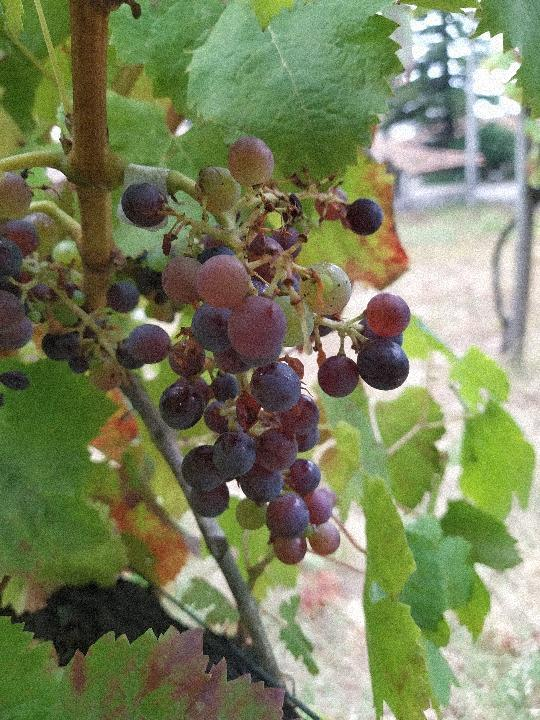grape: (36, 128, 415, 573)
